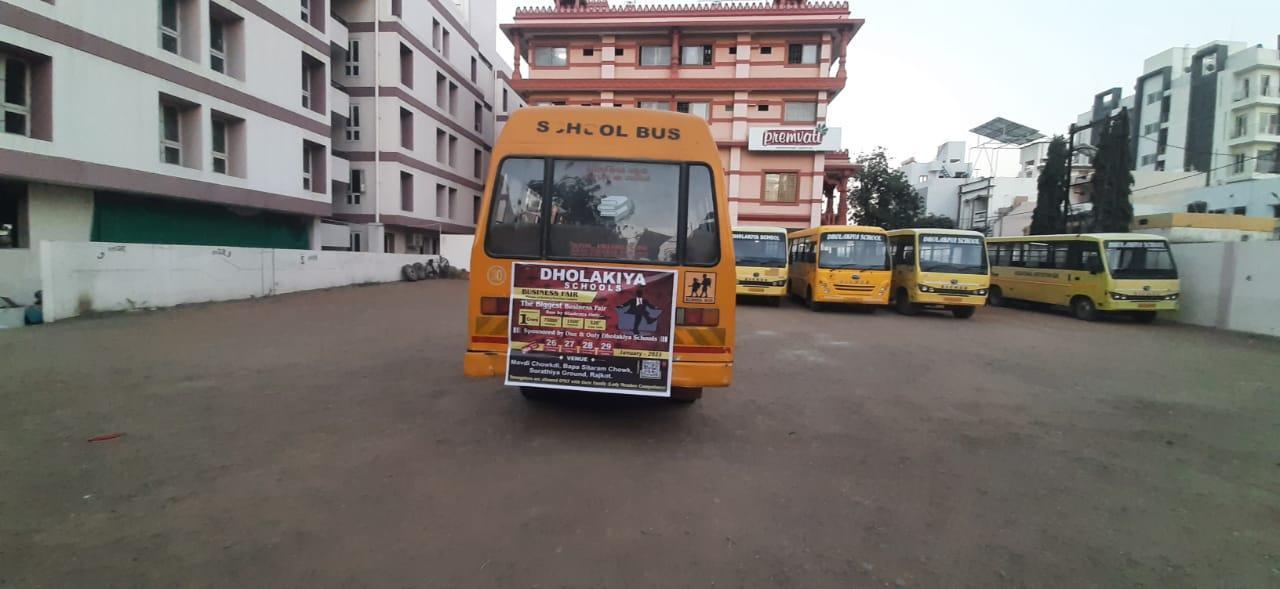Bus: (454, 86, 751, 436), (1000, 230, 1185, 324), (804, 222, 896, 316), (908, 224, 996, 322), (729, 209, 792, 311)
